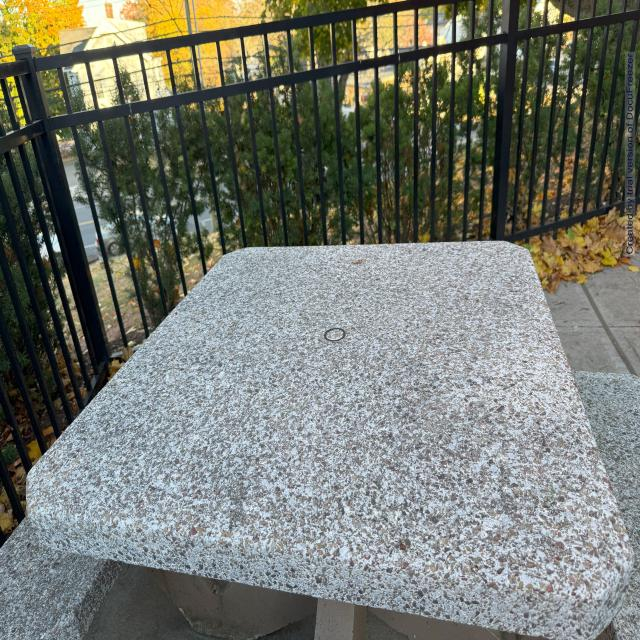Table: (22, 224, 640, 639)
